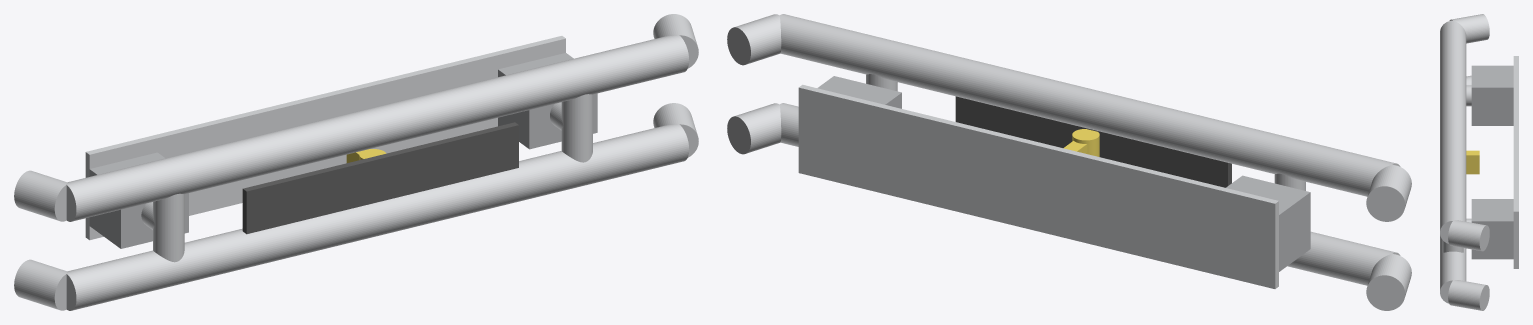
The model's file is rover34_bumper_m.glb.
3 views of the same model, side by side, from view 1: azimuth 30°, elevation 25°; view 2: azimuth 150°, elevation 25°; view 3: azimuth 270°, elevation 25° (orthographic). The views are drawn at different scales.
Parts seen in each view (by area): view 1: push_bar, mount_plate, rubber_pads, crush_boxes; view 2: mount_plate, push_bar, rubber_pads, crush_boxes, tow_eye; view 3: push_bar, crush_boxes, mount_plate, tow_eye.
Boxes of the visible parts, x1=… form: push_bar: x1=14, y1=14, x2=698, y2=310; mount_plate: x1=85, y1=36, x2=565, y2=240; rubber_pads: x1=242, y1=122, x2=518, y2=234; crush_boxes: x1=89, y1=53, x2=597, y2=248; mount_plate: x1=798, y1=84, x2=1278, y2=288; push_bar: x1=727, y1=14, x2=1411, y2=310; rubber_pads: x1=955, y1=96, x2=1231, y2=187; crush_boxes: x1=817, y1=76, x2=1310, y2=271; tow_eye: x1=1063, y1=129, x2=1099, y2=156; push_bar: x1=1440, y1=14, x2=1489, y2=310; crush_boxes: x1=1471, y1=65, x2=1513, y2=259; mount_plate: x1=1513, y1=56, x2=1518, y2=268; tow_eye: x1=1466, y1=150, x2=1479, y2=174.
Size of the model in its own units: 1.99 by 0.35 by 0.3.
